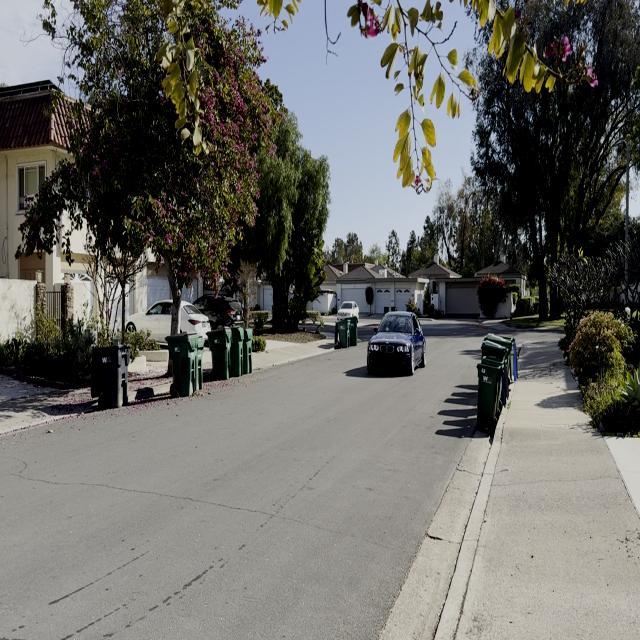Carbeetle: (365, 299, 428, 387)
